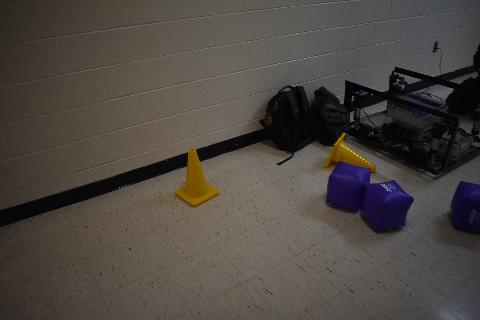cone: (174, 148, 220, 208), (325, 133, 377, 173)
cube: (360, 180, 414, 232), (326, 160, 372, 212), (450, 180, 480, 232)
